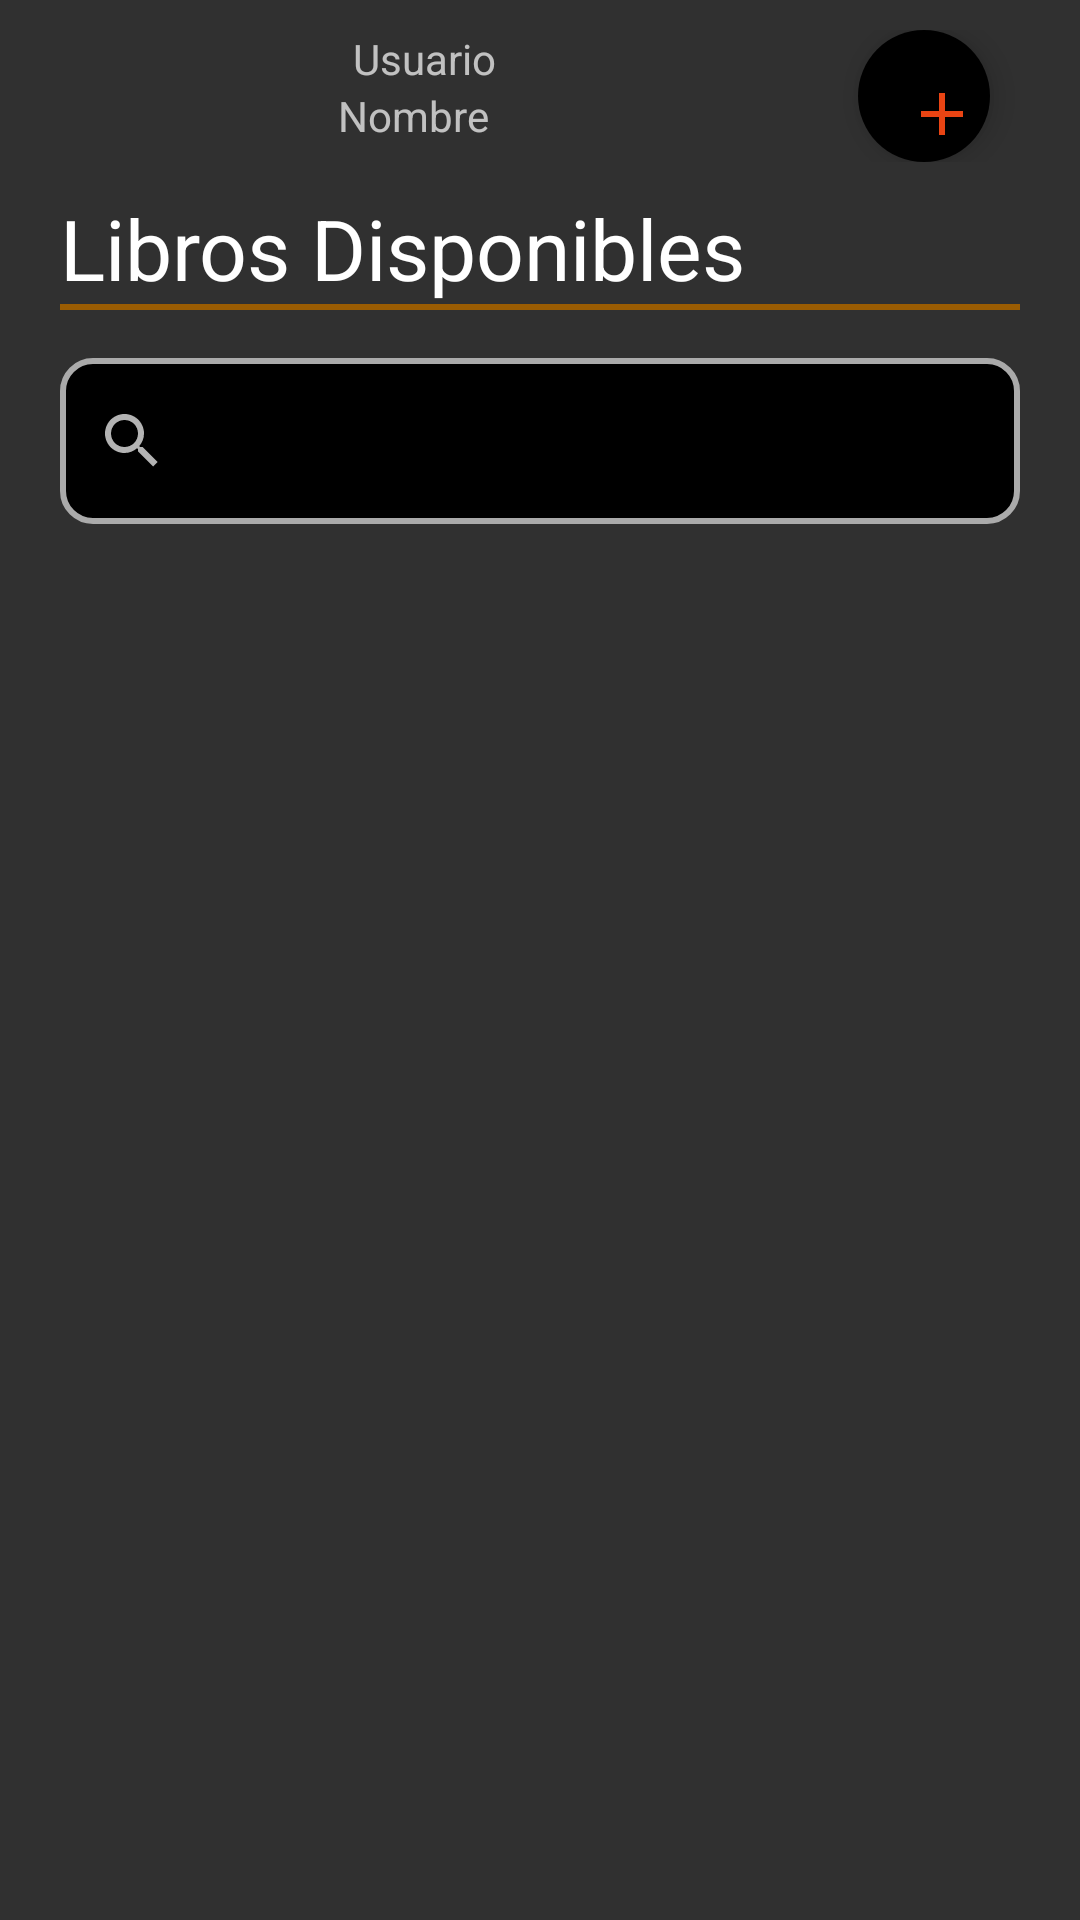

Icon bounding boxes for this 1080×1920 phone screenshot, format (x1, y1, x2, y2):
mas: (858, 30, 990, 162)
